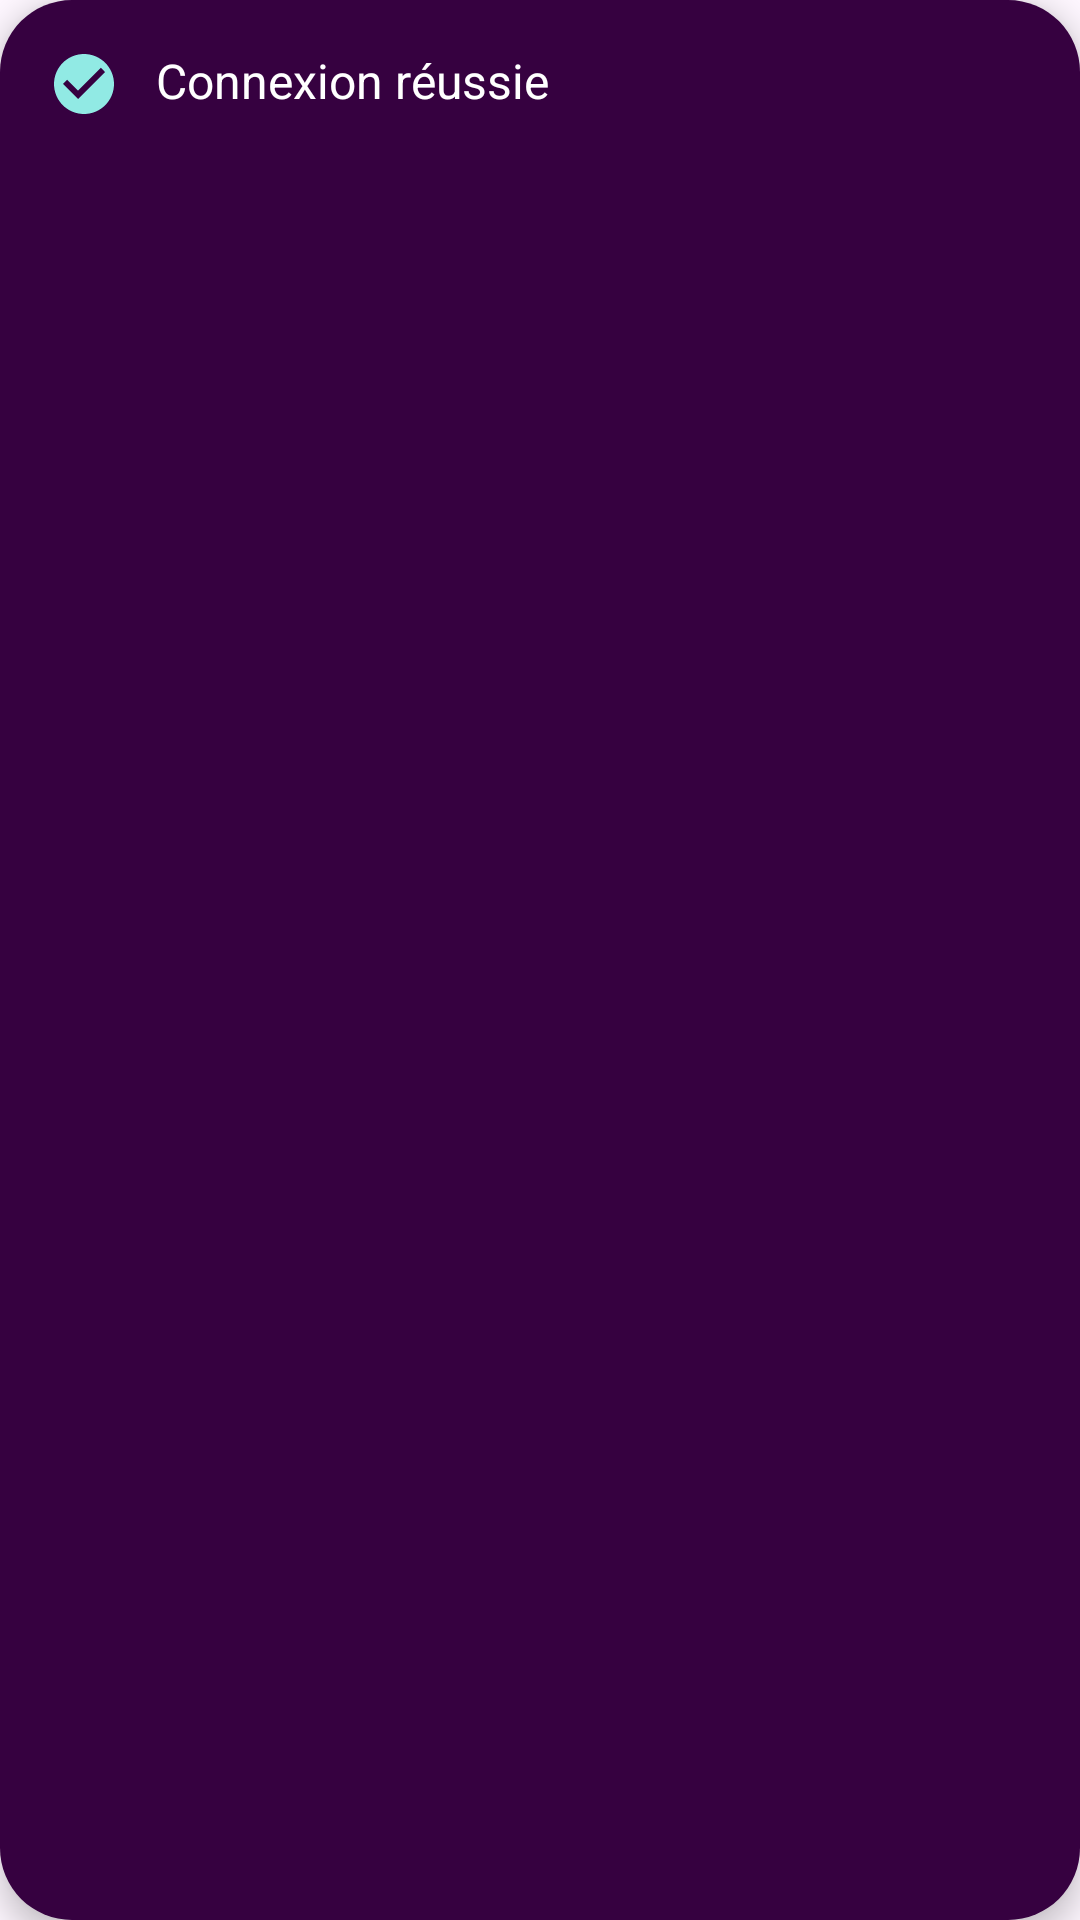

Screen size 1080 x 1920. Icon name, then its center in pixels as (x,y):
check circle: (84,84)
